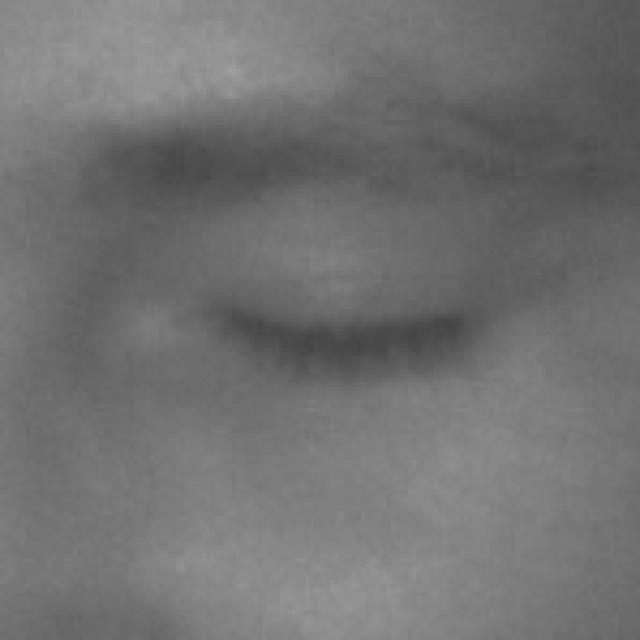Eyeclosed: (228, 204, 466, 499)
